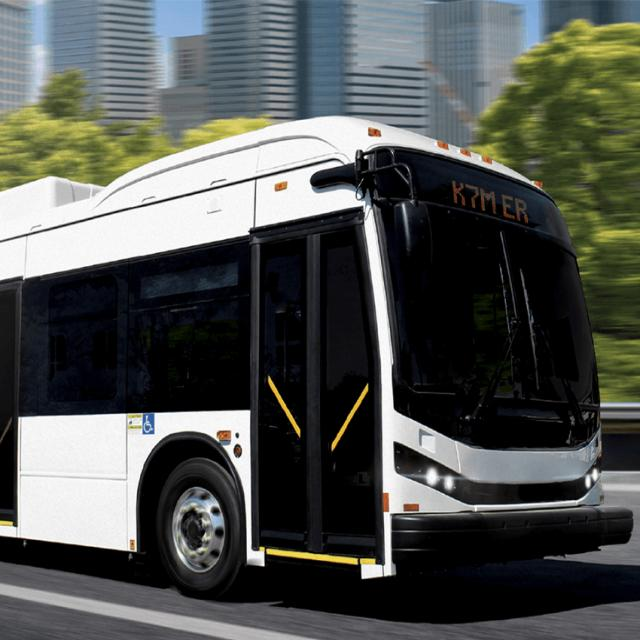bus: (0, 113, 617, 604)
